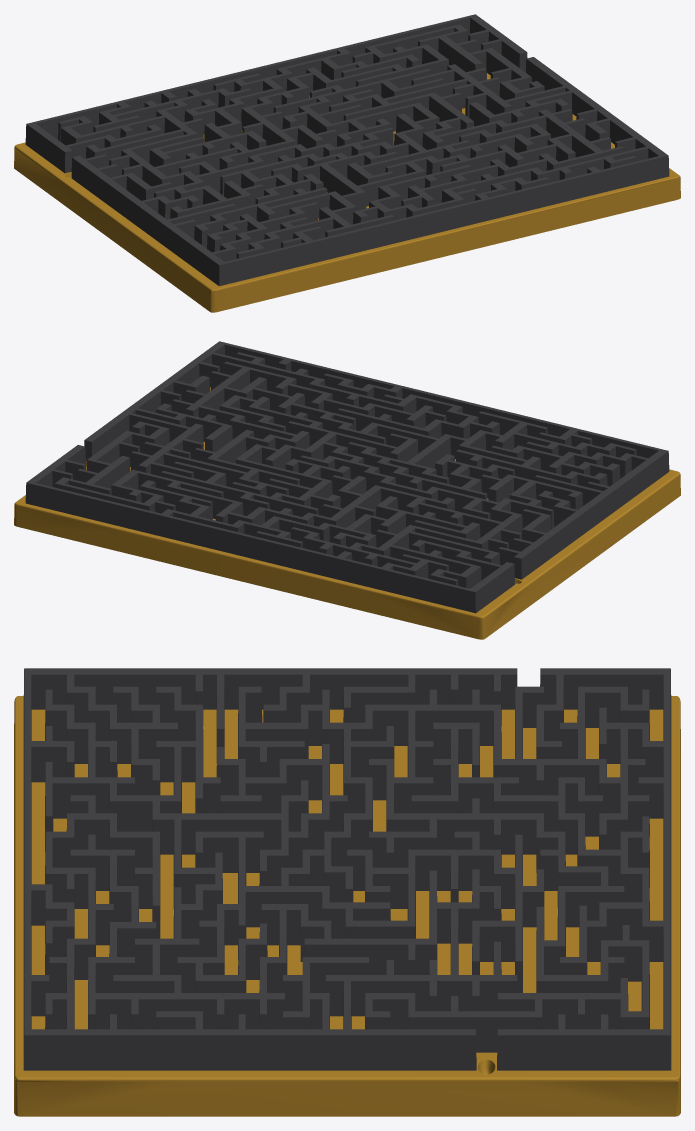
The model's file is laberinto_L1.glb.
The picture shows the model from 3 angles, top to bottom: view 1: azimuth 30°, elevation 25°; view 2: azimuth 150°, elevation 25°; view 3: azimuth 270°, elevation 25°; orthographic projection. The views are drawn at different scales.
Visible parts, largest first — view 1: Object_3, Object_2, Object_4; view 2: Object_2, Object_3, Object_4; view 3: Object_3, Object_2, Object_4.
Part boxes in pixels (bbox=[...]): Object_3: bbox=[71, 57, 669, 286]; Object_2: bbox=[25, 14, 550, 218]; Object_4: bbox=[14, 73, 680, 312]; Object_2: bbox=[25, 395, 582, 613]; Object_3: bbox=[84, 341, 669, 579]; Object_4: bbox=[14, 387, 680, 639]; Object_3: bbox=[23, 668, 517, 1070]; Object_2: bbox=[177, 668, 671, 1070]; Object_4: bbox=[14, 696, 680, 1116].
Bounding box in the file's own units: 394 × 34.65 × 289.
